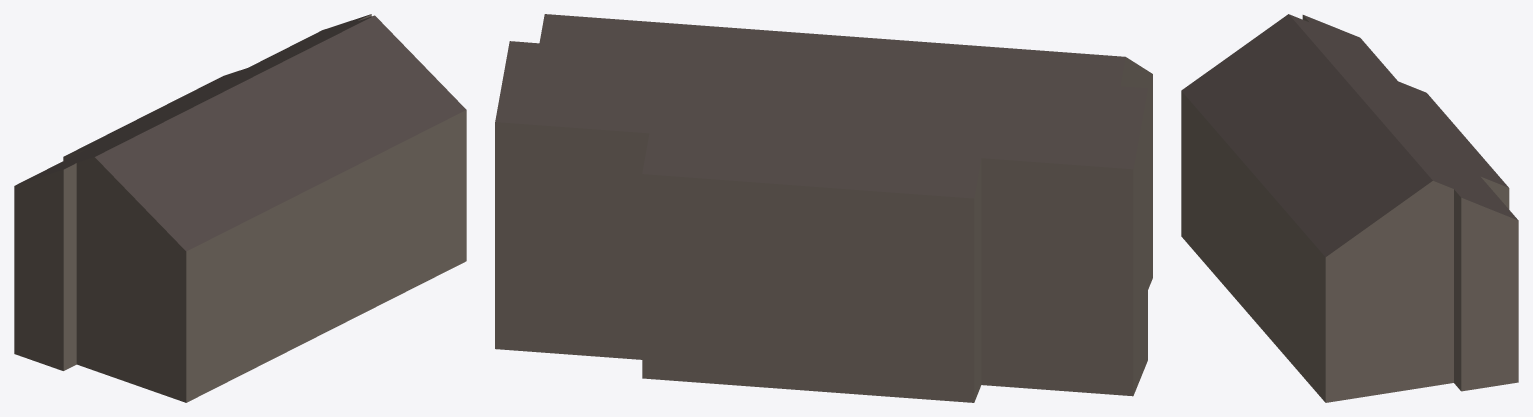
3 renders of one model, left to right at view 1: azimuth 30°, elevation 25°; view 2: azimuth 150°, elevation 25°; view 3: azimuth 270°, elevation 25°, orthographic. The views are drawn at different scales.
Visible parts, largest first — view 1: HP-w1435252851; view 2: HP-w1435252851; view 3: HP-w1435252851.
Boxes of the visible parts, x1,y1,x2,y2 form: HP-w1435252851: [14, 14, 466, 402]; HP-w1435252851: [495, 14, 1152, 402]; HP-w1435252851: [1181, 14, 1518, 402].
Size of the model in its own units: 27 by 12.7 by 18.91.
